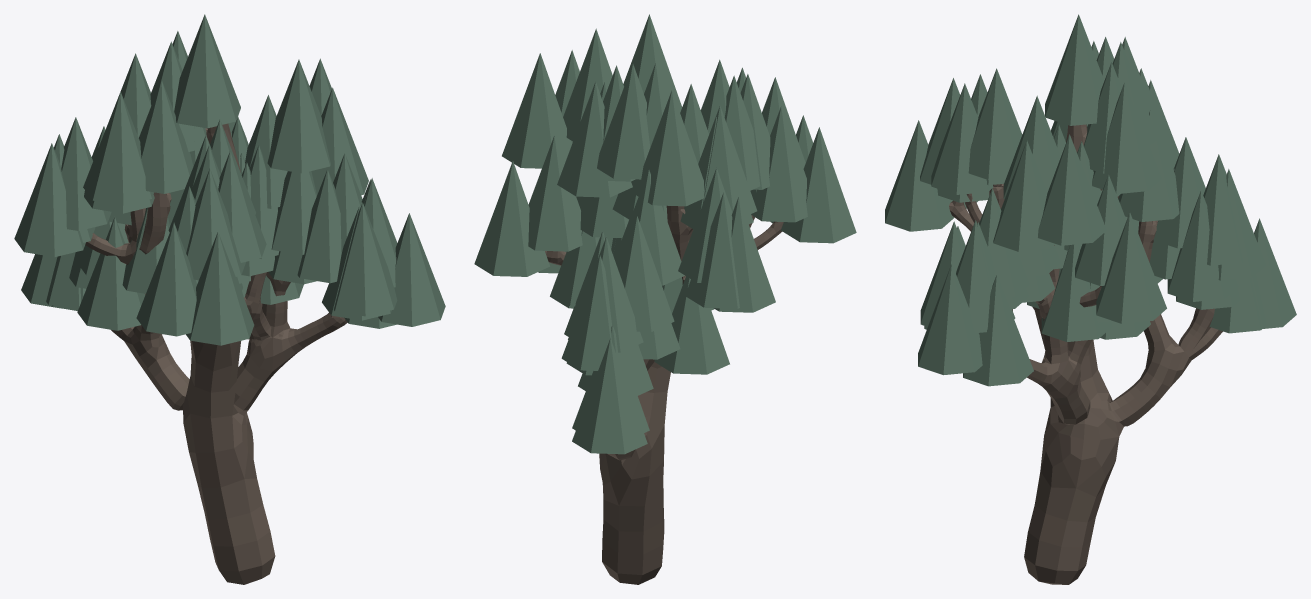
File: pine_2.glb
The picture shows the model from 3 angles, left to right: view 1: azimuth 30°, elevation 25°; view 2: azimuth 150°, elevation 25°; view 3: azimuth 270°, elevation 25°; orthographic projection. The views are drawn at different scales.
Visible parts, largest first — view 1: tree, Cone.063, Cone.046, Cone.050, Cone.058, Cone.051, Cone.043, Cone.004, Cone.041, Cone, Cone.034, Cone.019 (+25 smaller); view 2: tree, Cone.026, Cone.047, Cone.017, Cone.057, Cone.051, Cone.018, Cone.052, Cone.062, Cone.034, Cone.059, Cone.028 (+25 smaller); view 3: tree, Cone.017, Cone.057, Cone, Cone.063, Cone.059, Cone.050, Cone.056, Cone.002, Cone.055, Cone.027, Cone.009 (+22 smaller).
Boxes of the visible parts, box(x1,y1,x2,y2) form: tree: box(85, 123, 347, 584); Cone.063: box(174, 14, 240, 128); Cone.046: box(83, 92, 154, 205); Cone.050: box(186, 232, 254, 345); Cone.058: box(267, 59, 330, 173); Cone.051: box(136, 222, 196, 336); Cone.043: box(14, 143, 85, 257); Cone.004: box(334, 202, 397, 316); Cone.041: box(139, 80, 193, 193); Cone: box(378, 213, 445, 326); Cone.034: box(77, 216, 145, 330); Cone.019: box(297, 169, 341, 283); tree: box(545, 205, 783, 584); Cone.026: box(572, 338, 647, 454); Cone.047: box(633, 90, 704, 206); Cone.017: box(474, 161, 549, 276); Cone.057: box(502, 53, 572, 168); Cone.051: box(781, 127, 856, 243); Cone.018: box(528, 135, 582, 251); Cone.052: box(750, 106, 807, 222); Cone.062: box(597, 64, 650, 179); Cone.034: box(654, 276, 729, 374); Cone.059: box(557, 81, 632, 197); Cone.028: box(561, 255, 637, 370); tree: box(949, 124, 1222, 584); Cone.017: box(1096, 212, 1166, 323); Cone.057: box(1038, 134, 1106, 245); Cone: box(918, 263, 982, 375); Cone.063: box(1045, 14, 1104, 125); Cone.059: box(1092, 82, 1161, 193); Cone.050: box(885, 120, 954, 231); Cone.056: box(993, 140, 1055, 251); Cone.002: box(963, 275, 1033, 386); Cone.055: box(968, 68, 1022, 179); Cone.027: box(1167, 190, 1238, 301); Cone.009: box(1041, 244, 1112, 341).
Size of the model in its own units: 3.45 by 5.75 by 3.86.
